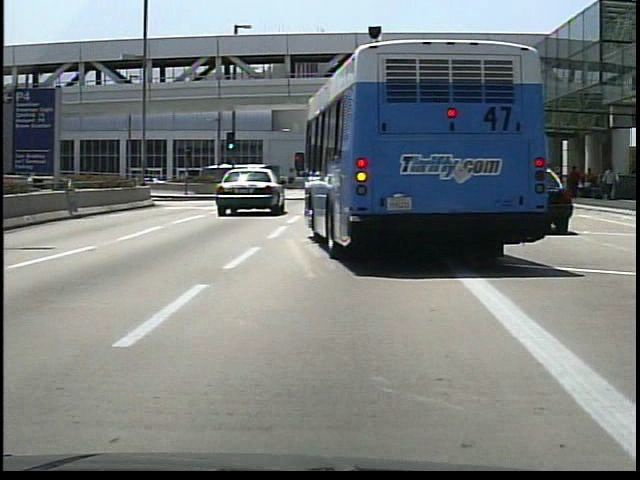person: (603, 166, 621, 200), (568, 164, 581, 200), (585, 167, 596, 199), (286, 174, 297, 192)
